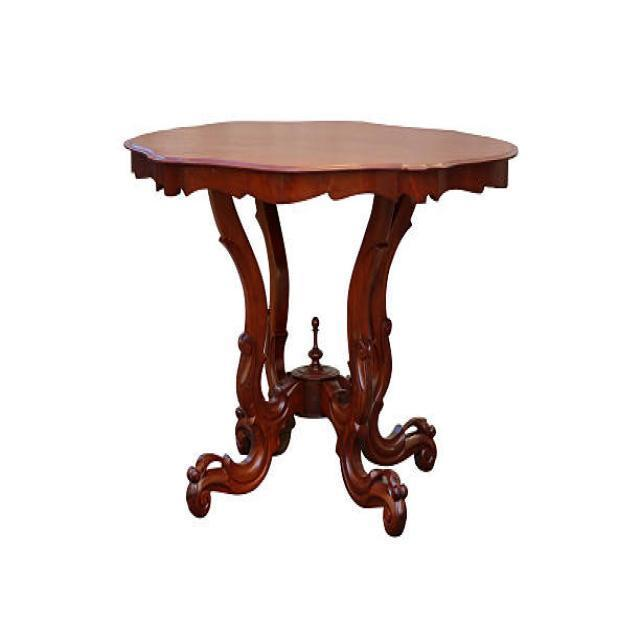table: (123, 118, 518, 536)
